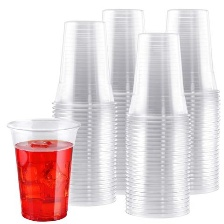glass: (34, 17, 121, 209), (123, 27, 193, 222), (157, 4, 224, 195), (89, 5, 150, 199), (0, 114, 83, 224)
